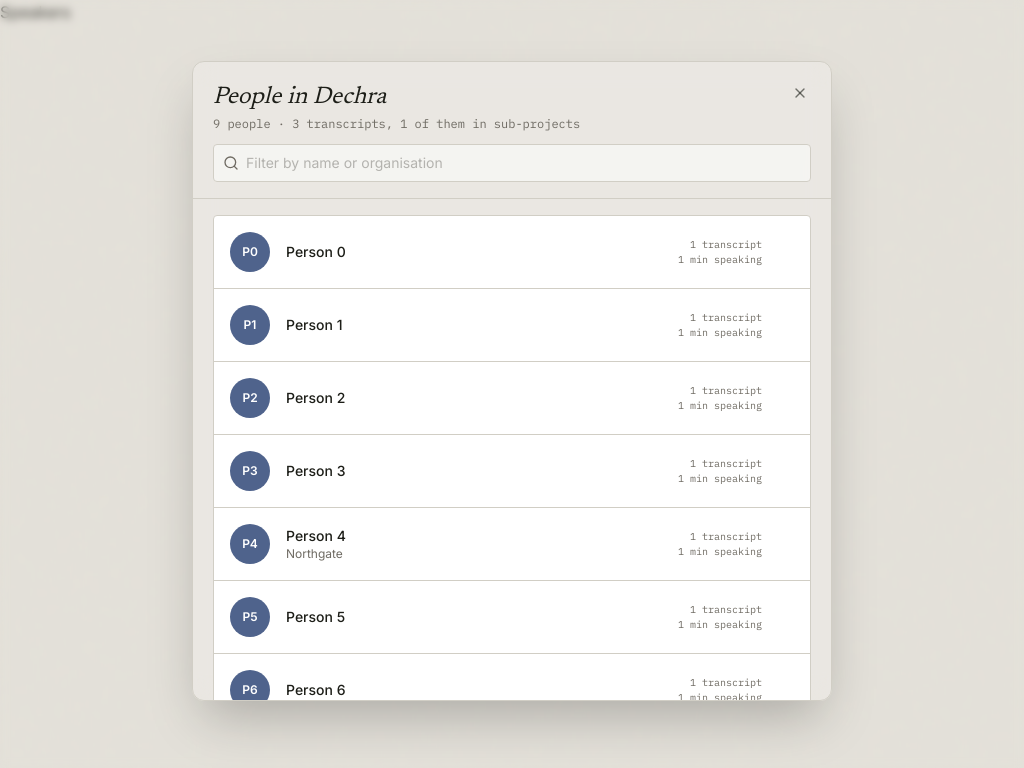
Test: ProjectPeopleDialog › shows a filter only once the list is long, matching name or organisation
Type "northgate" into the field named "Filter people" at (512, 163), box [213, 144, 811, 182]
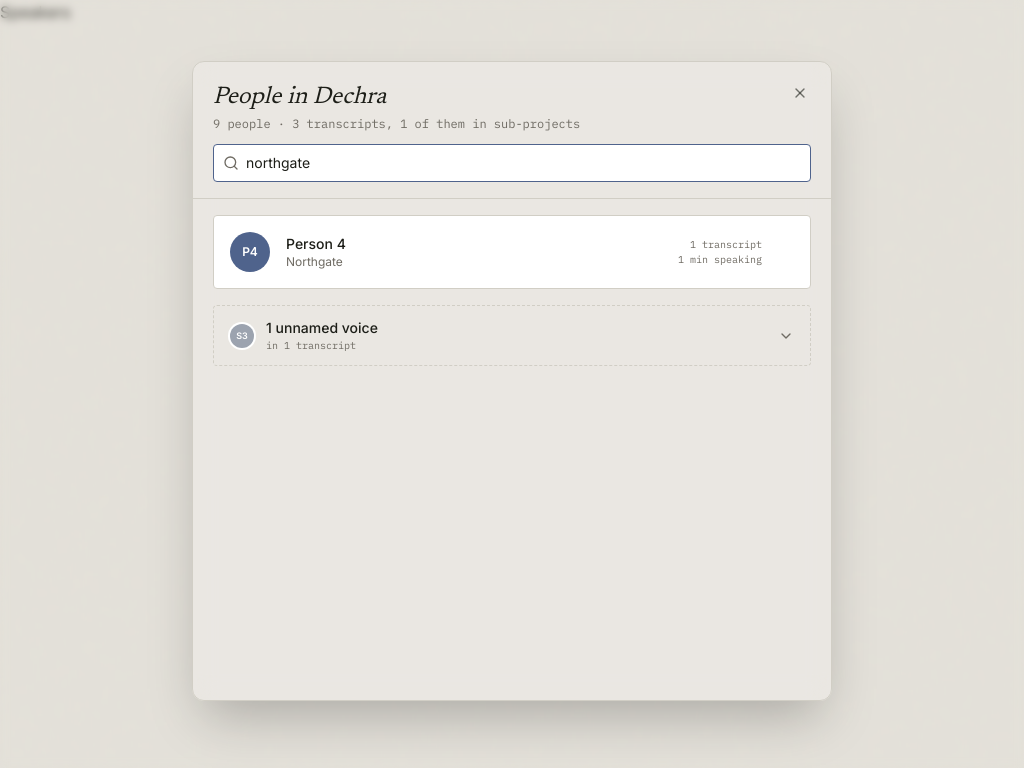
Replace the text in the field named "Filter people" with "zebra" at (512, 163), box [213, 144, 811, 182]
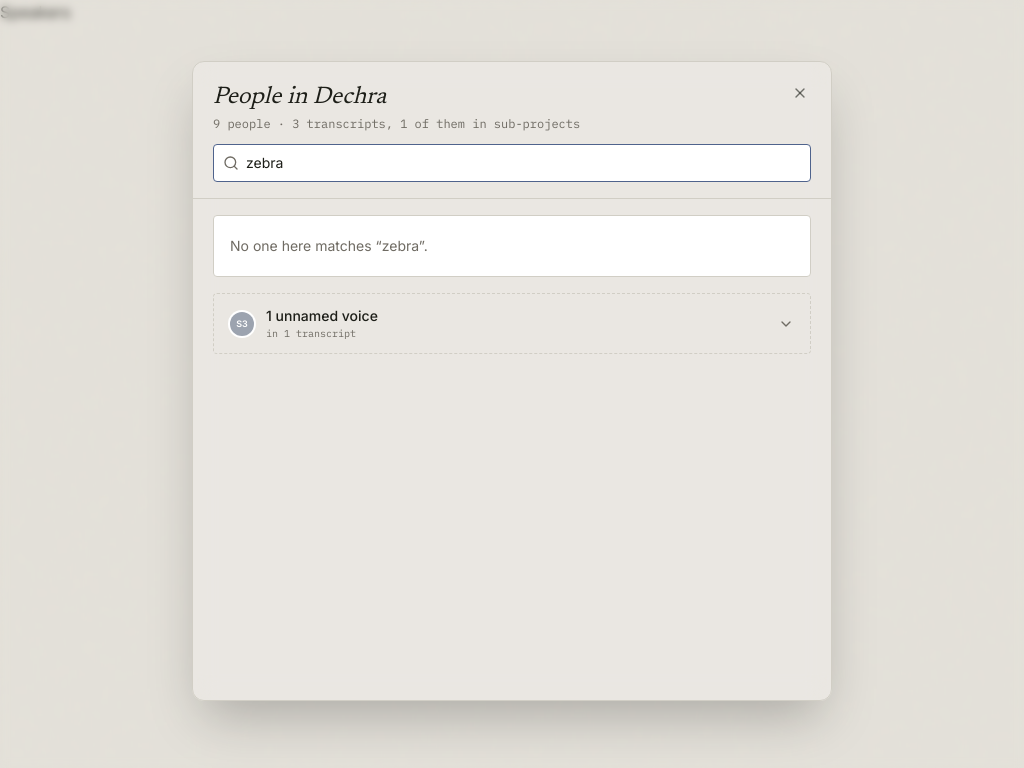
Expected: the text "No one here matches “zebra”." is shown, [230, 237, 428, 254]
